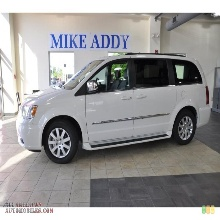no damage: (16, 52, 212, 164)
